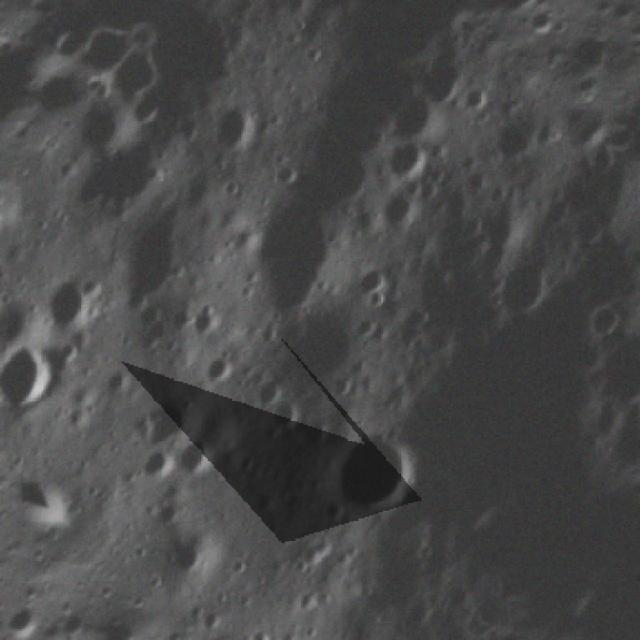crater: (211, 172, 369, 334), (307, 407, 438, 538), (272, 301, 380, 408), (22, 261, 116, 354), (0, 331, 72, 430), (577, 316, 640, 424), (482, 252, 560, 331), (195, 92, 271, 168), (102, 34, 175, 109), (370, 128, 444, 201), (11, 464, 83, 530), (477, 109, 546, 176), (164, 430, 225, 492), (370, 182, 430, 243), (577, 293, 635, 352), (267, 614, 398, 640), (158, 529, 213, 586), (127, 437, 182, 492), (180, 298, 232, 351), (258, 391, 310, 442), (157, 296, 205, 346), (264, 153, 310, 199), (452, 79, 497, 123), (440, 8, 485, 50), (195, 353, 238, 396), (248, 374, 289, 415), (358, 283, 396, 320), (132, 297, 168, 334), (286, 626, 352, 640), (200, 623, 246, 640), (626, 374, 640, 429), (634, 180, 640, 214)
